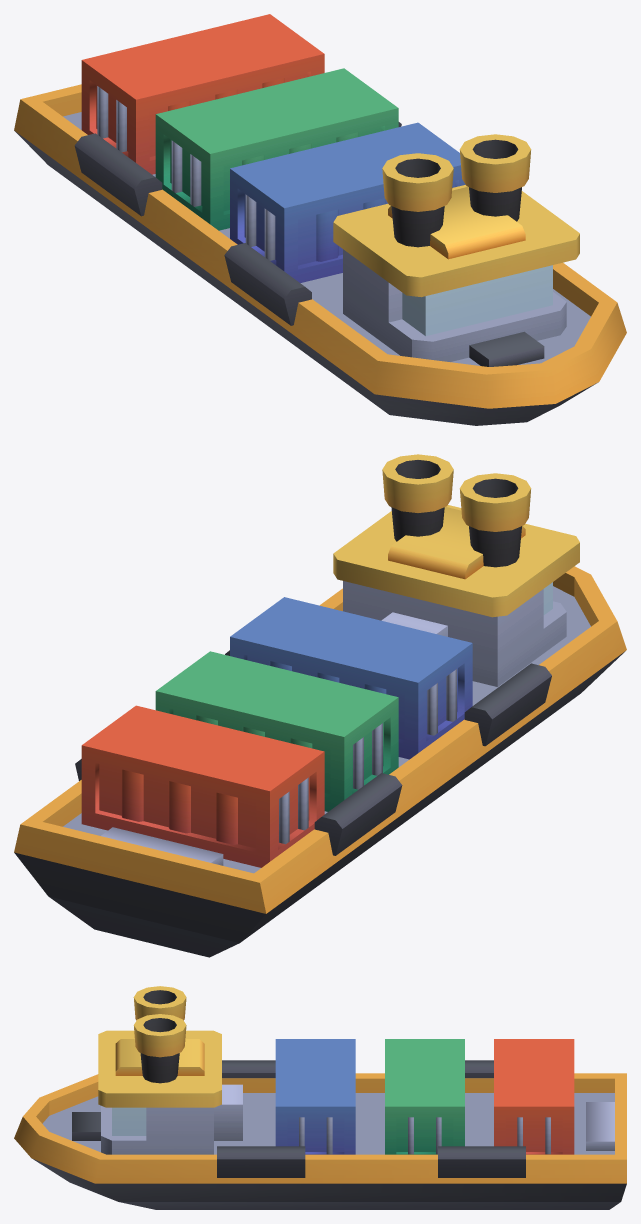
The model's file is k.ship_cargo_a.glb.
The picture shows the model from 3 angles, top to bottom: view 1: azimuth 30°, elevation 25°; view 2: azimuth 150°, elevation 25°; view 3: azimuth 270°, elevation 25°; orthographic projection. The views are drawn at different scales.
Visible parts, largest first — view 1: ship-cargo-a, cargo-b, cargo-c, cargo-a; view 2: ship-cargo-a, cargo-c, cargo-a, cargo-b; view 3: ship-cargo-a, cargo-a, cargo-c, cargo-b.
Part boxes in pixels (x1,y1,x2,y2): ship-cargo-a: (14,84,626,425); cargo-b: (155,68,398,230); cargo-c: (81,14,324,174); cargo-a: (230,122,465,282); ship-cargo-a: (14,454,626,957); cargo-c: (81,705,324,867); cargo-a: (230,597,472,759); cargo-b: (155,651,398,811); ship-cargo-a: (14,986,626,1209); cargo-a: (275,1039,355,1154); cargo-c: (494,1039,574,1154); cargo-b: (385,1039,464,1154).
Bounding box in the file's own units: 4.99 × 4.3 × 13.43.
Materials: 1 (1 with a texture image).
